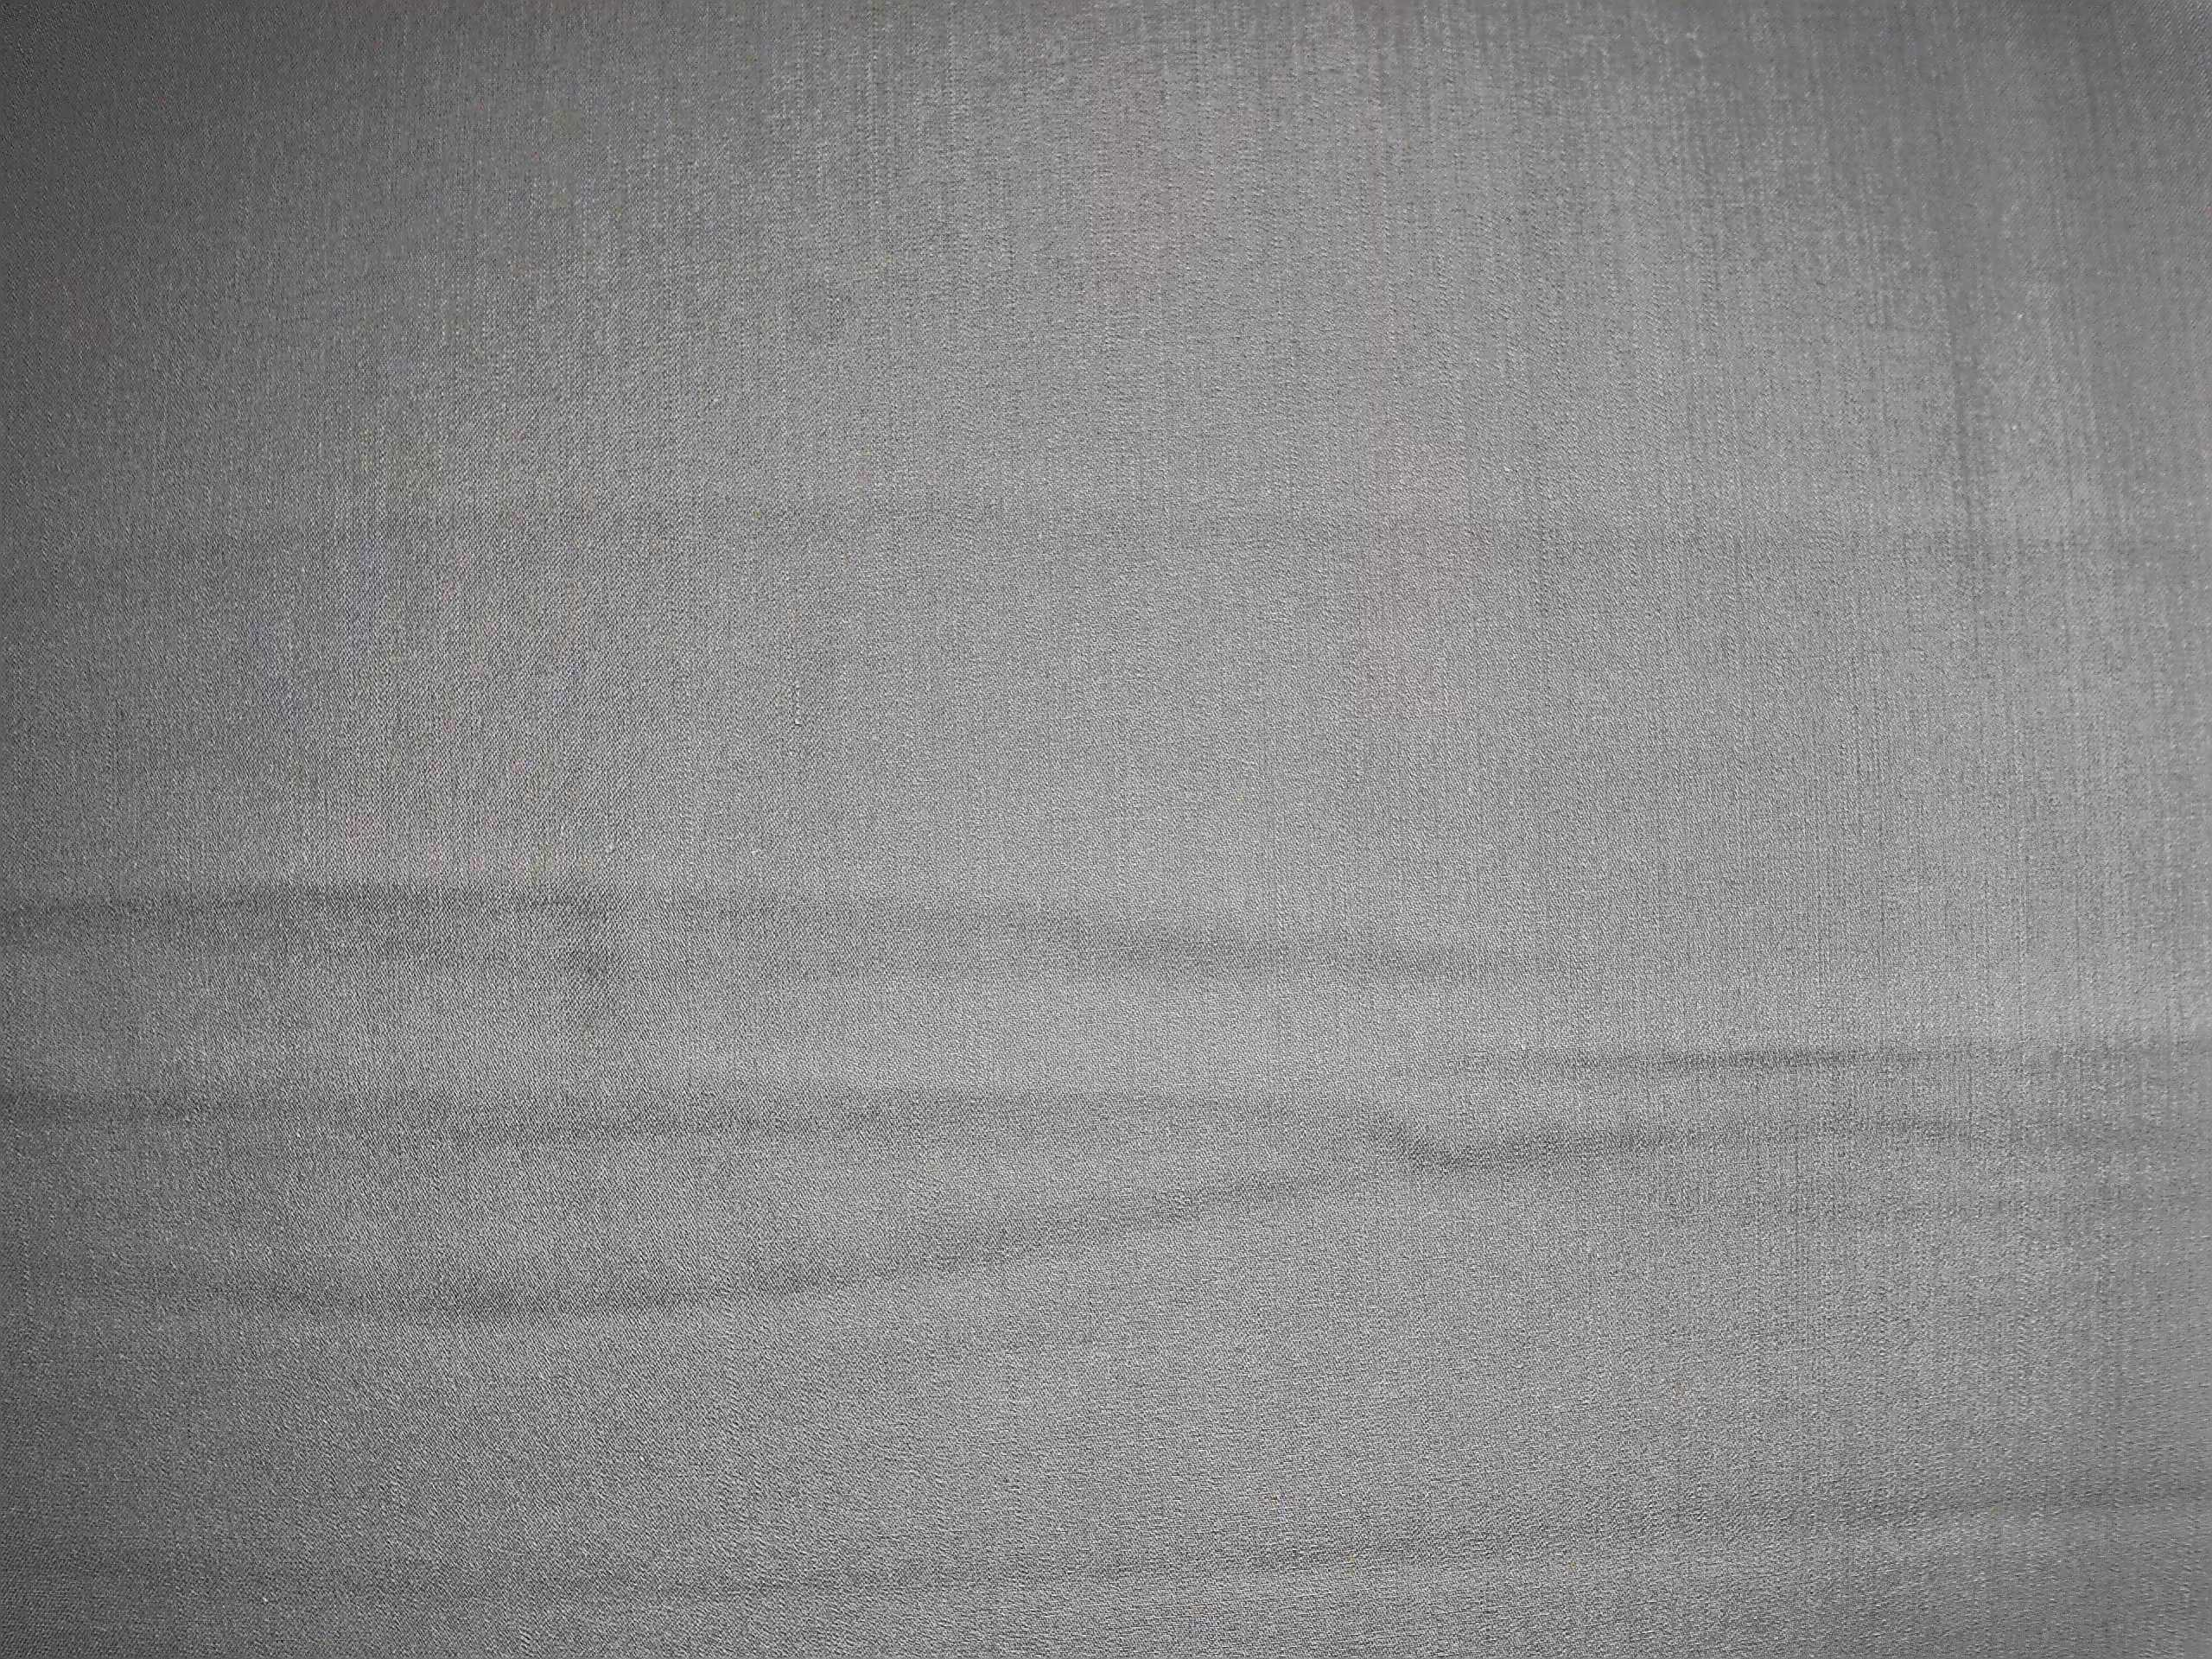others: (768, 645, 824, 753)
